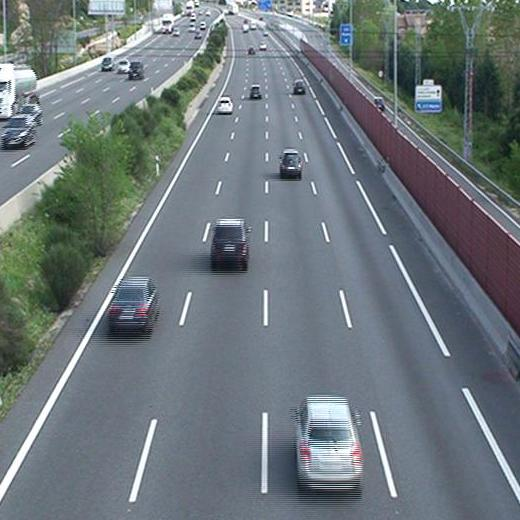car: (290, 397, 365, 491), (105, 277, 159, 335), (209, 219, 250, 269), (279, 150, 303, 179), (215, 97, 234, 115), (290, 79, 306, 95), (249, 85, 263, 99), (247, 45, 255, 54)
